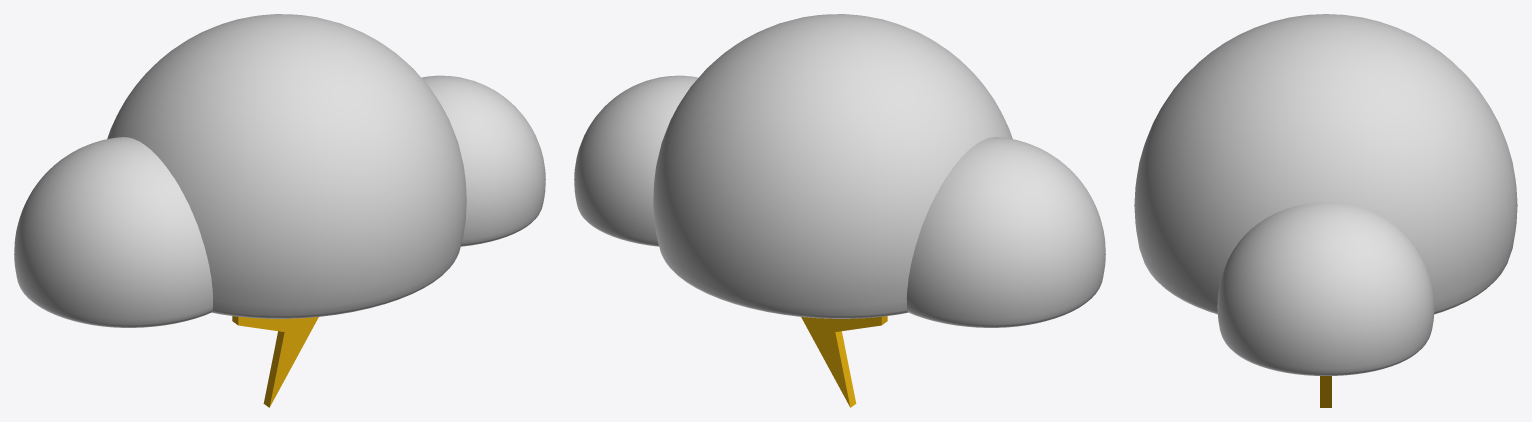
Rendered from Cloud_with_Lightning.gltf.
3 views of the same model, side by side, from view 1: azimuth 30°, elevation 25°; view 2: azimuth 150°, elevation 25°; view 3: azimuth 270°, elevation 25° (orthographic). The views are drawn at different scales.
Visible parts, largest first — view 1: Cube.210, Cube.211; view 2: Cube.210, Cube.211; view 3: Cube.210, Cube.211.
Part boxes in pixels (<box>): Cube.210: <box>14,14,545,327</box>; Cube.211: <box>232,316,318,407</box>; Cube.210: <box>574,14,1105,327</box>; Cube.211: <box>801,316,887,407</box>; Cube.210: <box>1134,14,1517,375</box>; Cube.211: <box>1320,376,1331,407</box>.
Size of the model in its own units: 2.15 by 1.51 by 1.37.
Materials: 1 (1 with a texture image).
